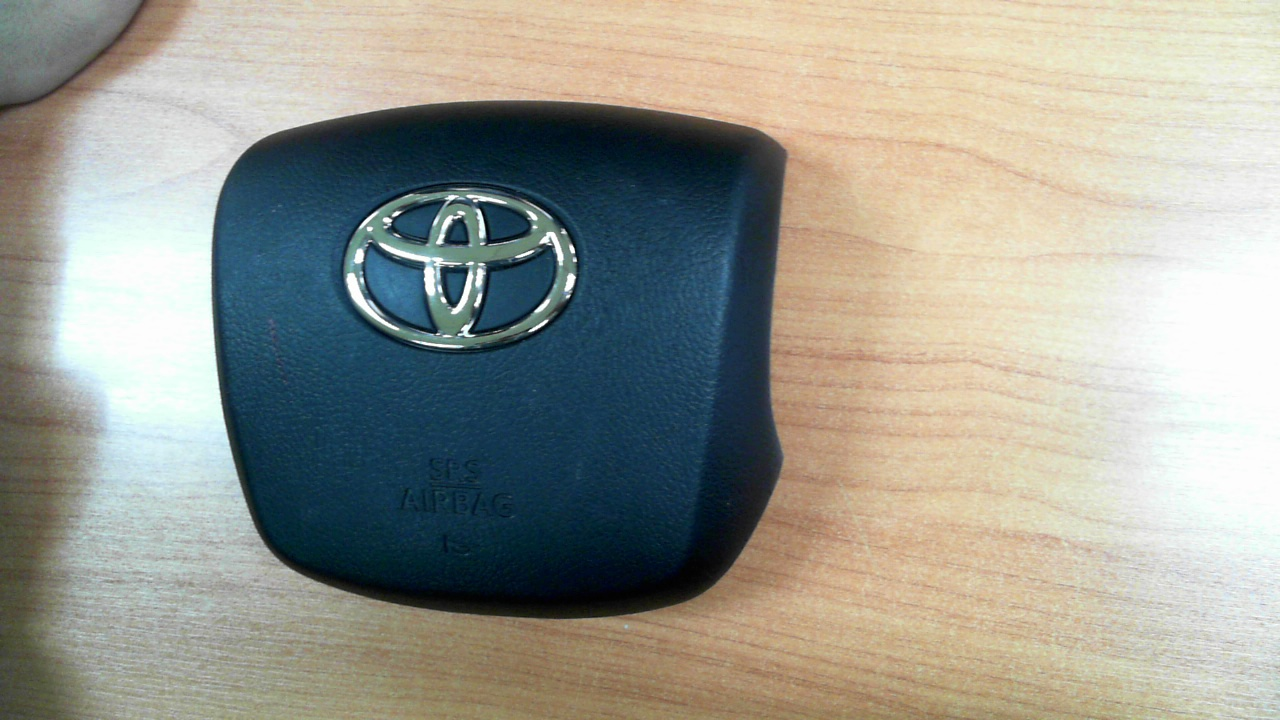Airbag: (210, 99, 789, 620)
Toyota: (342, 187, 578, 350)
